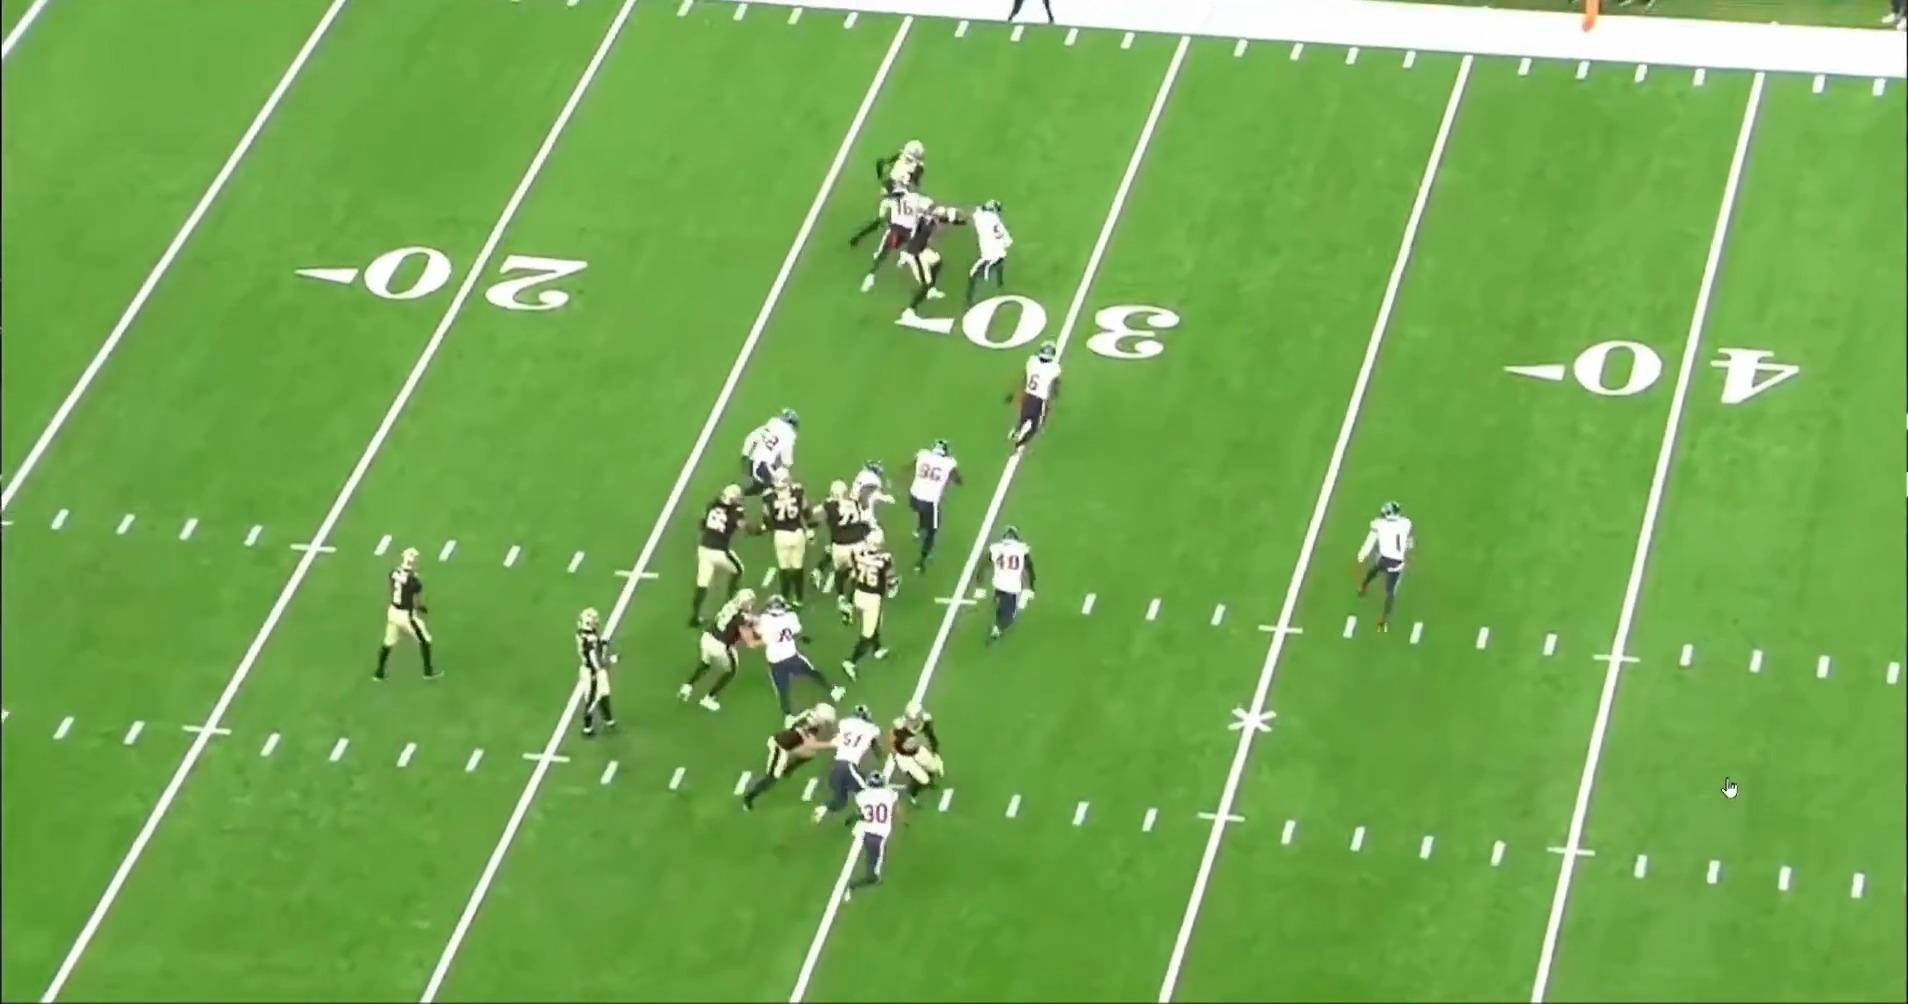defense: (752, 598, 851, 710), (808, 706, 886, 830), (843, 764, 910, 897), (1350, 498, 1416, 624), (910, 439, 972, 570), (984, 525, 1047, 652), (741, 407, 813, 512), (858, 182, 925, 290), (963, 201, 1025, 312), (1008, 341, 1066, 448), (848, 455, 895, 517)
oline: (680, 587, 771, 716), (692, 484, 768, 629), (751, 470, 815, 608), (847, 530, 906, 676), (809, 476, 873, 556)
qb: (374, 539, 450, 689)
ref: (1003, 0, 1065, 26)
skill: (734, 705, 840, 819), (852, 137, 934, 256), (893, 192, 963, 330), (572, 602, 627, 739), (883, 705, 951, 815)
